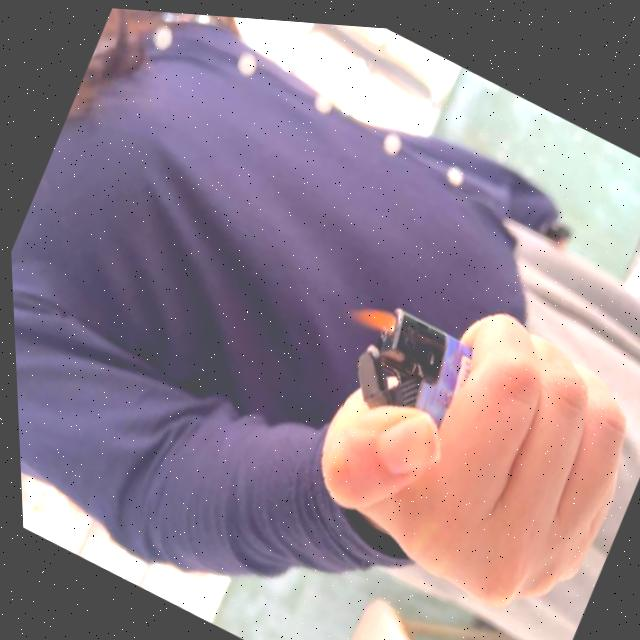Fire: (340, 284, 400, 337)
